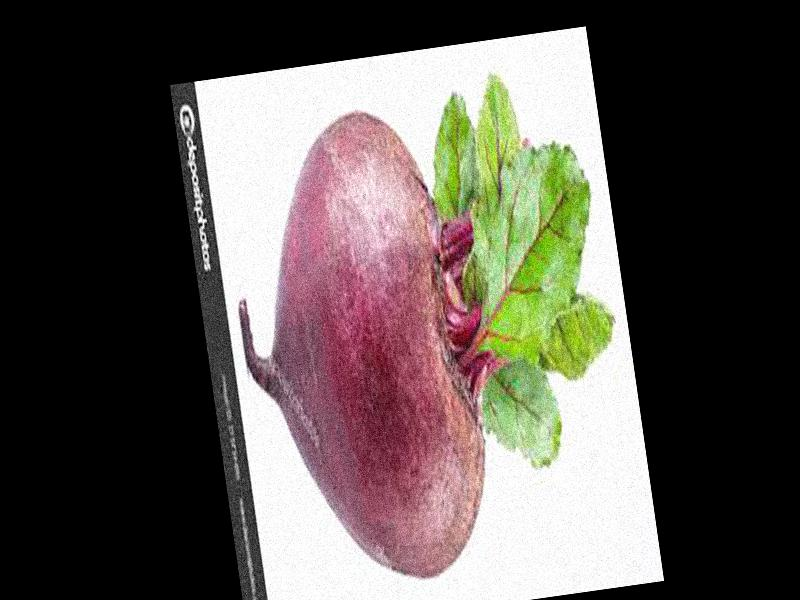Beet: (213, 63, 645, 599)
